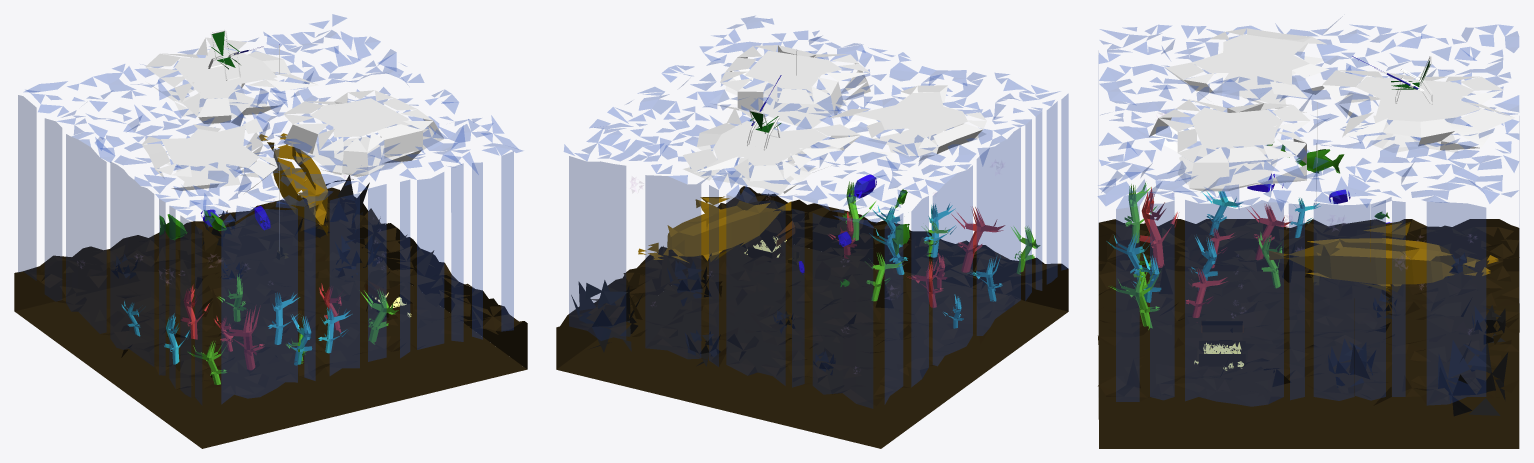
The picture shows the model from 3 angles, left to right: view 1: azimuth 30°, elevation 25°; view 2: azimuth 150°, elevation 25°; view 3: azimuth 270°, elevation 25°; orthographic projection. The views are drawn at different scales.
Visible parts, largest first — view 1: Plane.004, Plane.003, Plane.001, Plane.002, Plane, Cube.050, Cube.032, Coral 1.007_0.002, Coral 1.011_0.001, Cube.029, Cube.003, Coral 1.012_0.003 (+1 smaller); view 2: Plane.004, Plane.003, Plane.001, Plane.002, Plane, Cube.050, Cube.032, Coral 1.007_0.002, Cube.029, Cube.003, Coral 1.012_0.001, Coral 1.011_0.001 (+3 smaller); view 3: Plane.004, Plane.003, Plane.002, Plane.001, Plane, Cube.050, Cube.032, Coral 1.007_0.002, Cube.029, Cube.002, Cube.003, Coral 1.011_0.001 (+9 smaller).
Part boxes in pixels (left/top/right/bottom): Plane.004: left=18, top=14, right=523, bottom=404; Plane.003: left=14, top=187, right=527, bottom=448; Plane.001: left=283, top=90, right=444, bottom=176; Plane.002: left=145, top=37, right=317, bottom=125; Plane: left=142, top=118, right=277, bottom=193; Cube.050: left=259, top=133, right=328, bottom=235; Cube.032: left=295, top=175, right=369, bottom=238; Coral 1.007_0.002: left=222, top=306, right=264, bottom=370; Coral 1.011_0.001: left=361, top=290, right=398, bottom=344; Cube.029: left=333, top=235, right=381, bottom=277; Cube.003: left=364, top=270, right=404, bottom=307; Coral 1.012_0.003: left=268, top=292, right=300, bottom=344; Plane.004: left=564, top=16, right=1068, bottom=408; Plane.003: left=556, top=186, right=1068, bottom=448; Plane.001: left=709, top=45, right=870, bottom=128; Plane.002: left=683, top=107, right=860, bottom=195; Plane: left=828, top=85, right=986, bottom=174; Cube.050: left=638, top=196, right=791, bottom=262; Cube.032: left=571, top=280, right=642, bottom=352; Coral 1.007_0.002: left=951, top=207, right=1004, bottom=272; Cube.029: left=667, top=260, right=711, bottom=306; Cube.003: left=760, top=213, right=796, bottom=251; Coral 1.012_0.001: left=924, top=204, right=955, bottom=257; Coral 1.011_0.001: left=842, top=181, right=875, bottom=240; Plane.004: left=1098, top=18, right=1519, bottom=406; Plane.003: left=1098, top=219, right=1519, bottom=448; Plane.002: left=1322, top=70, right=1514, bottom=152; Plane.001: left=1149, top=99, right=1310, bottom=191; Plane: left=1165, top=28, right=1329, bottom=112; Cube.050: left=1268, top=221, right=1498, bottom=292; Cube.032: left=1438, top=340, right=1508, bottom=416; Coral 1.007_0.002: left=1139, top=187, right=1178, bottom=267; Cube.029: left=1328, top=339, right=1375, bottom=387; Cube.002: left=1199, top=341, right=1245, bottom=366; Cube.003: left=1201, top=320, right=1243, bottom=340; Coral 1.011_0.001: left=1110, top=269, right=1160, bottom=329.
Bounding box in the file's own units: 3.4 × 2.85 × 3.35.
